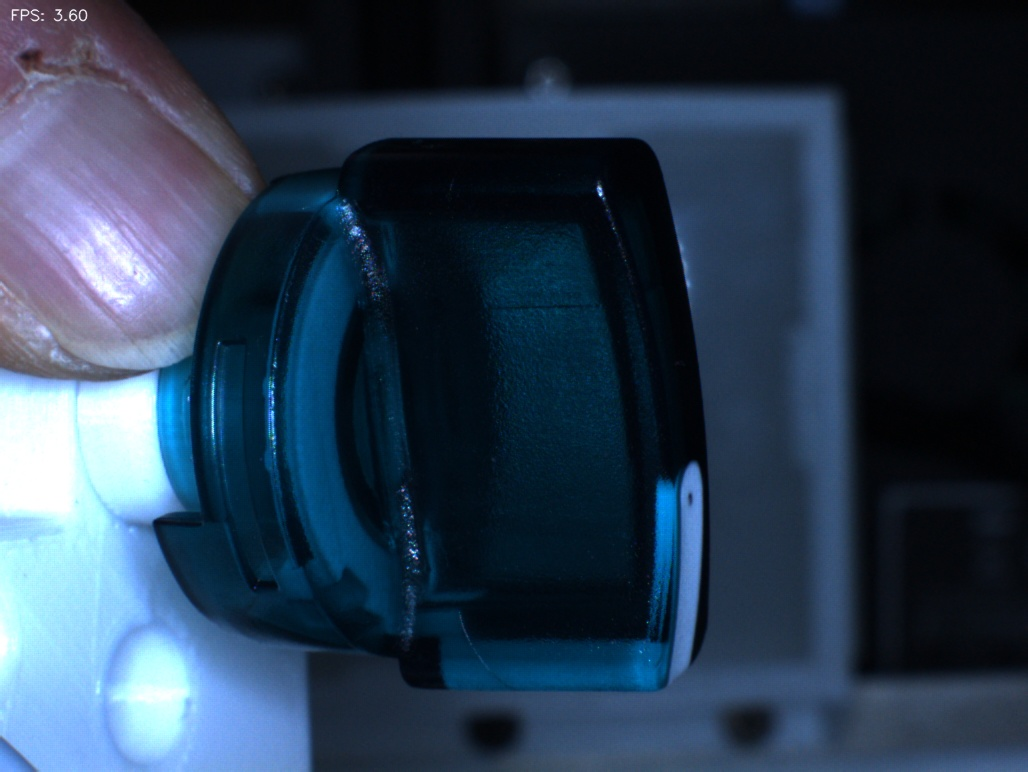PointNoir: (646, 447, 742, 551)
